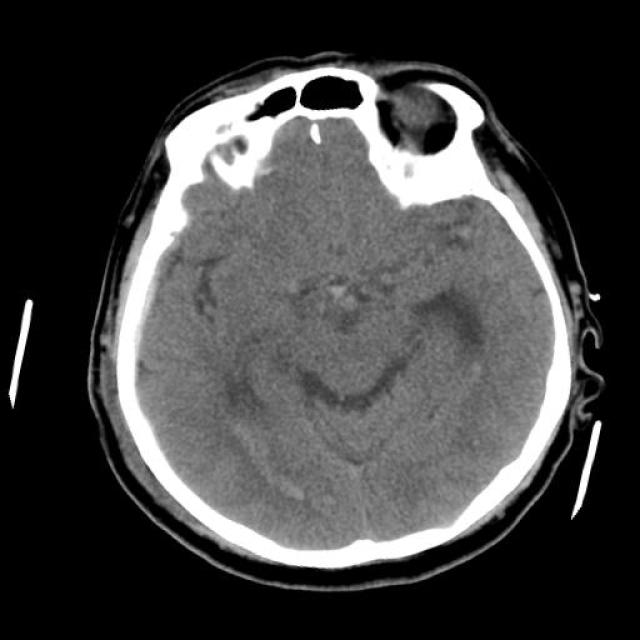Subdural: (89, 243, 176, 378)
